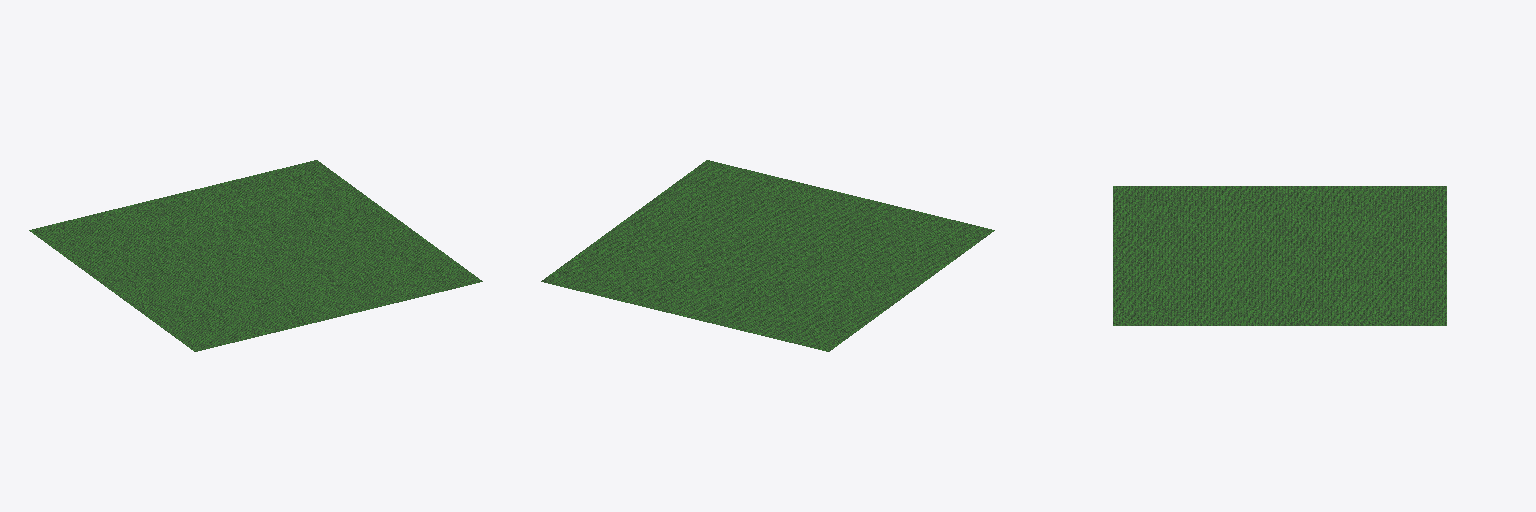
3 renders of one model, left to right at view 1: azimuth 30°, elevation 25°; view 2: azimuth 150°, elevation 25°; view 3: azimuth 270°, elevation 25°, orthographic.
Visible parts, largest first — view 1: Plane.001; view 2: Plane.001; view 3: Plane.001.
Part boxes in pixels (x1,y1,x2,y2): Plane.001: (29,160,482,351); Plane.001: (541,160,994,351); Plane.001: (1113,186,1446,325).
Bounding box in the file's own units: 11.81 × 0 × 11.81.
Materials: 1 (1 with a texture image).